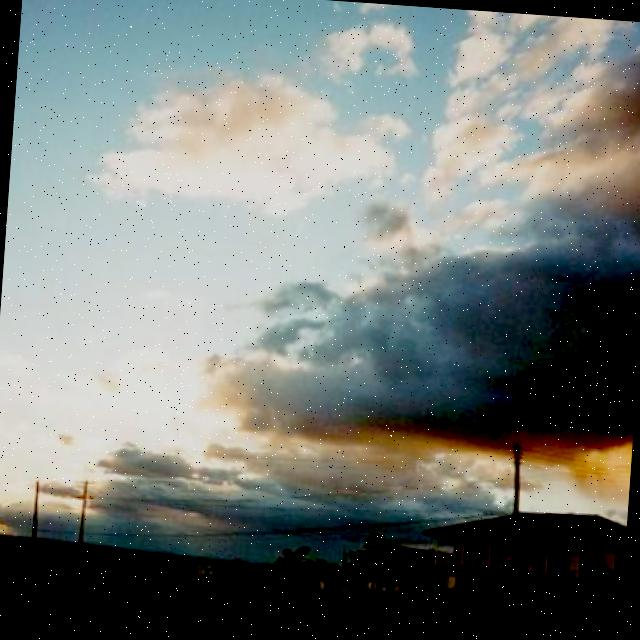Sc: (1, 2, 640, 470)
